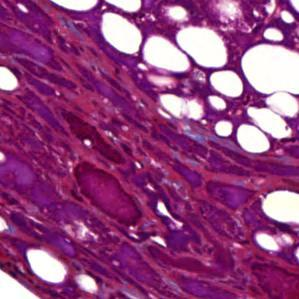steatosis: (237, 122, 269, 156)
